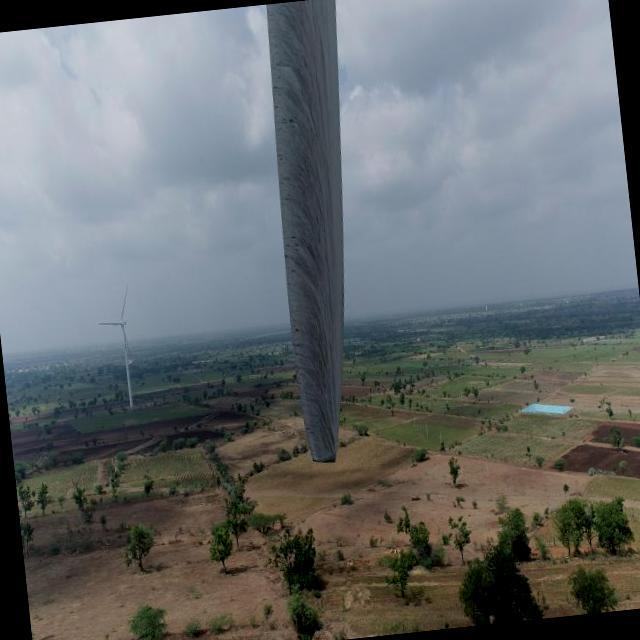Dirt: (269, 0, 346, 462)
